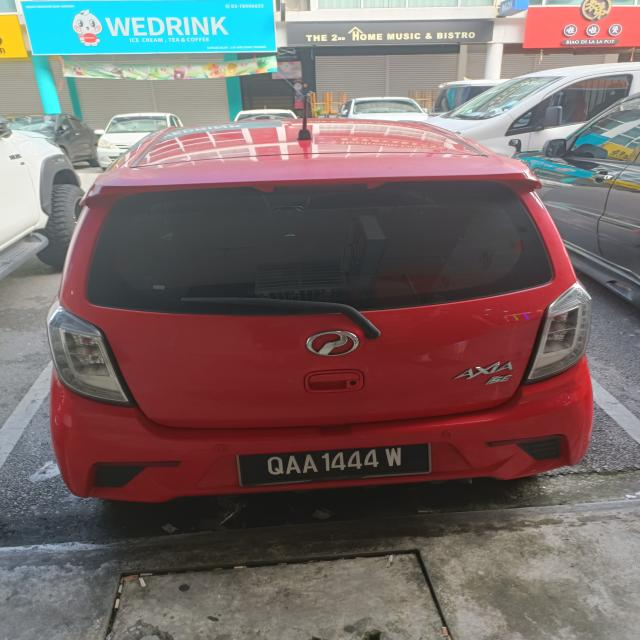PeroduaAxia: (45, 115, 596, 504)
